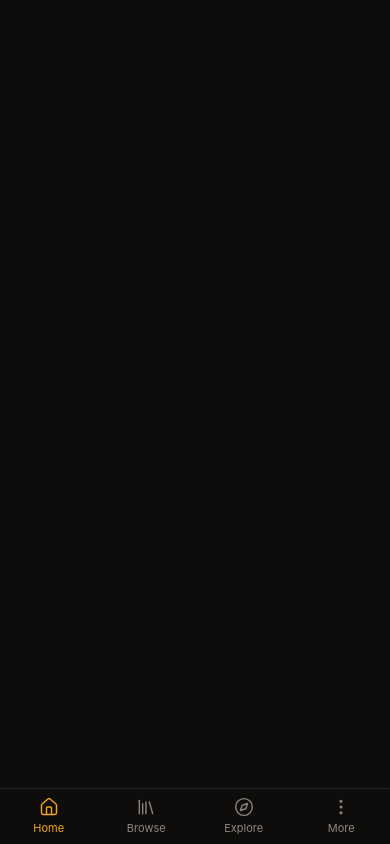
layout/MobileNav.vue › opens the "More" sheet on click, listing the overflow groups
The image size is (390, 844).
Expected: the text "Timeline" is not shown
What coordinates should you click on to do the following:
click the button "More"
I would click on:
 (341, 817)
Its box is [292,789,389,843].
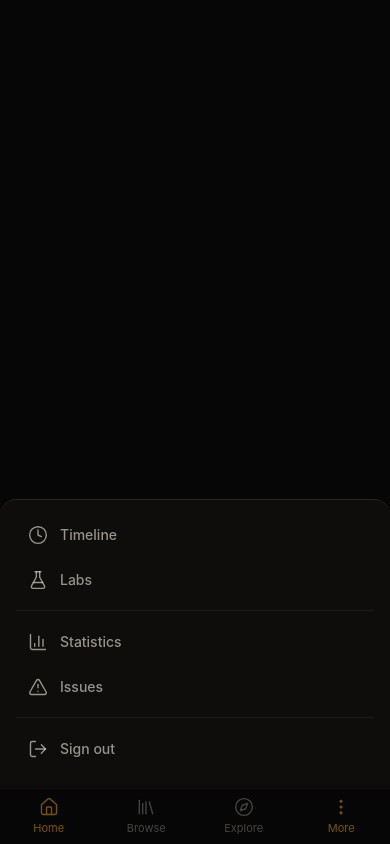
Expected: the text "Timeline" is shown, [60,524,117,545]
Expected: the text "Labs" is shown, [60,569,92,590]
Expected: the text "Statistics" is shown, [60,631,122,652]
